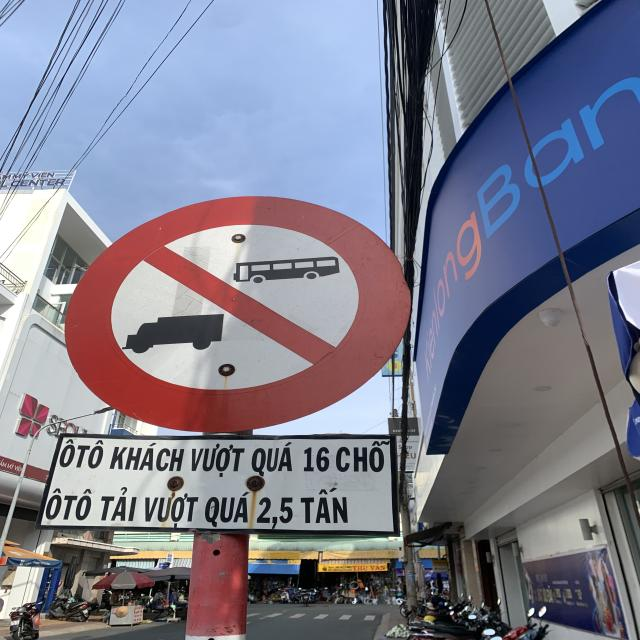Cam_XeTai_XeKhach: (62, 193, 410, 436)
